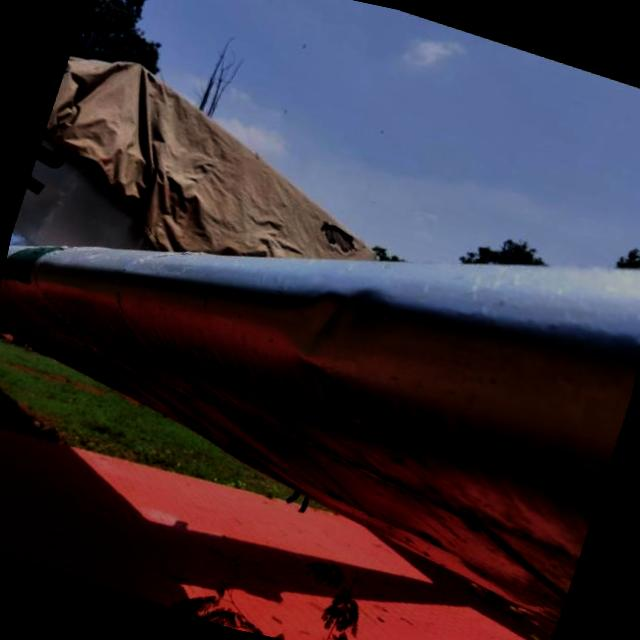dent: (261, 237, 422, 386)
